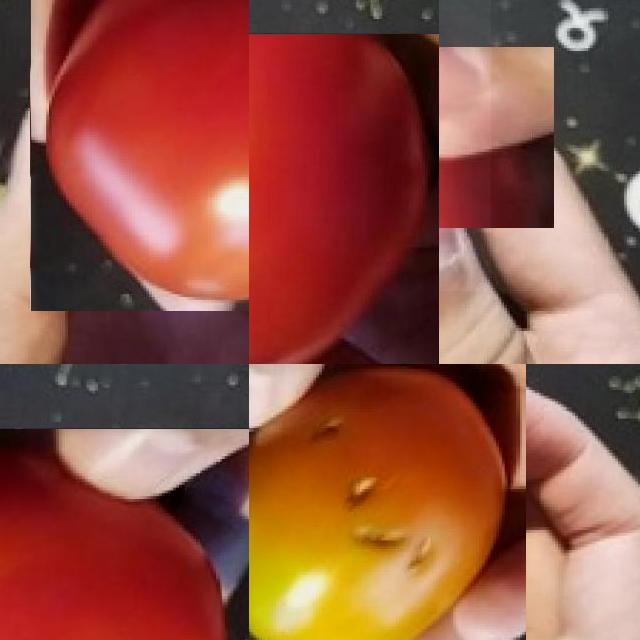0: (249, 33, 439, 364), (0, 428, 249, 640), (439, 0, 491, 291)
Fresh Tomato: (30, 0, 249, 311)
Rotten Tomato: (249, 364, 526, 640)
